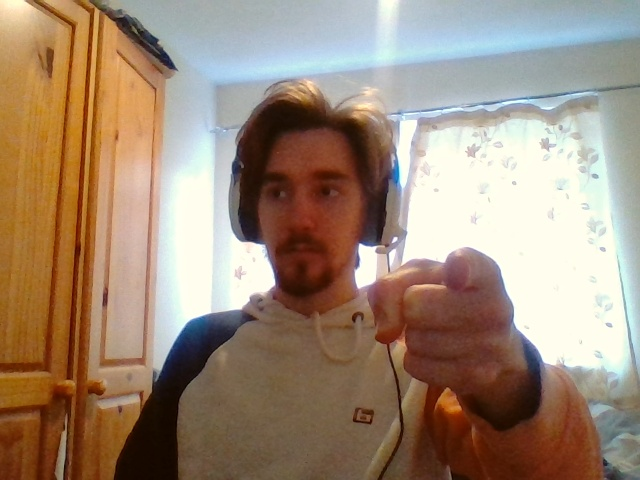you: (369, 248, 515, 386)
